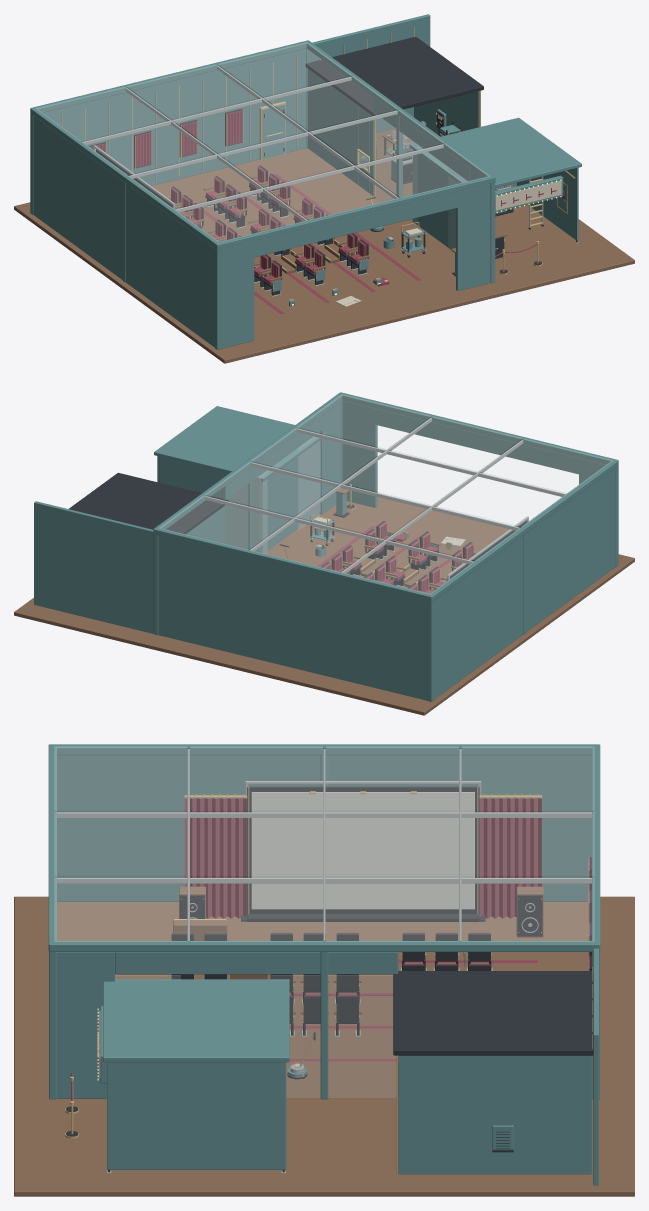
File: abandoned-cinema-and-projection-booth-ab-a5922e83-starter-scene__29736.glb
3 renders of one model, top to bottom at view 1: azimuth 30°, elevation 25°; view 2: azimuth 150°, elevation 25°; view 3: azimuth 270°, elevation 25°, orthographic. The views are drawn at different scales.
Visible parts, largest first — view 1: 000-abandoned-cinema-and-projection-booth-cinema-building/0, 000-abandoned-cinema-and-projection-booth-cinema-building/2, 000-abandoned-cinema-and-projection-booth-cinema-building/3, 001-abandoned-cinema-and-projection-booth-foyer-canopy/3, 000-abandoned-cinema-and-projection-booth-cinema-building/4, 000-abandoned-cinema-and-projection-booth-cinema-building/1, 000-abandoned-cinema-and-projection-booth-cinema-building/5, 000-abandoned-cinema-and-projection-booth-cinema-building/6, 057-abandoned-cinema-and-projection-booth-exit-door/1, 063-abandoned-cinema-and-projection-booth-marquee-sign/1, 063-abandoned-cinema-and-projection-booth-marquee-sign/0, 041-abandoned-cinema-and-projection-booth-wall-acoustic-pane (+1 smaller); view 2: 000-abandoned-cinema-and-projection-booth-cinema-building/0, 000-abandoned-cinema-and-projection-booth-cinema-building/2, 000-abandoned-cinema-and-projection-booth-cinema-building/3, 001-abandoned-cinema-and-projection-booth-foyer-canopy/3, 000-abandoned-cinema-and-projection-booth-cinema-building/1, 000-abandoned-cinema-and-projection-booth-cinema-building/4; view 3: 000-abandoned-cinema-and-projection-booth-cinema-building/2, 000-abandoned-cinema-and-projection-booth-cinema-building/0, 000-abandoned-cinema-and-projection-booth-cinema-building/3, 001-abandoned-cinema-and-projection-booth-foyer-canopy/3, 002-abandoned-cinema-and-projection-booth-projection-screen/ (×2), 000-abandoned-cinema-and-projection-booth-cinema-building/4, 000-abandoned-cinema-and-projection-booth-cinema-building/1, 004-abandoned-cinema-and-projection-booth-curtain-panel/0, 005-abandoned-cinema-and-projection-booth-curtain-panel/0, 000-abandoned-cinema-and-projection-booth-cinema-building/6, 038-abandoned-cinema-and-projection-booth-speaker-cabinet/1, 003-abandoned-cinema-and-projection-booth-screen-frame/0 (+2 smaller).
Boxes of the visible parts, bbox=[...] form: 000-abandoned-cinema-and-projection-booth-cinema-building/0: bbox=[30, 14, 495, 349]; 000-abandoned-cinema-and-projection-booth-cinema-building/2: bbox=[36, 42, 489, 254]; 000-abandoned-cinema-and-projection-booth-cinema-building/3: bbox=[14, 128, 634, 363]; 001-abandoned-cinema-and-projection-booth-foyer-canopy/3: bbox=[409, 117, 581, 249]; 000-abandoned-cinema-and-projection-booth-cinema-building/4: bbox=[305, 36, 483, 115]; 000-abandoned-cinema-and-projection-booth-cinema-building/1: bbox=[83, 65, 443, 221]; 000-abandoned-cinema-and-projection-booth-cinema-building/5: bbox=[61, 27, 480, 196]; 000-abandoned-cinema-and-projection-booth-cinema-building/6: bbox=[192, 174, 420, 314]; 057-abandoned-cinema-and-projection-booth-exit-door/1: bbox=[262, 104, 285, 159]; 063-abandoned-cinema-and-projection-booth-marquee-sign/1: bbox=[495, 181, 561, 210]; 063-abandoned-cinema-and-projection-booth-marquee-sign/0: bbox=[495, 175, 563, 212]; 041-abandoned-cinema-and-projection-booth-wall-acoustic-pane: bbox=[135, 132, 151, 167]; 000-abandoned-cinema-and-projection-booth-cinema-building/0: bbox=[34, 392, 618, 701]; 000-abandoned-cinema-and-projection-booth-cinema-building/2: bbox=[159, 394, 612, 594]; 000-abandoned-cinema-and-projection-booth-cinema-building/3: bbox=[14, 497, 634, 715]; 001-abandoned-cinema-and-projection-booth-foyer-canopy/3: bbox=[154, 406, 326, 553]; 000-abandoned-cinema-and-projection-booth-cinema-building/1: bbox=[205, 417, 565, 573]; 000-abandoned-cinema-and-projection-booth-cinema-building/4: bbox=[69, 472, 228, 534]; 000-abandoned-cinema-and-projection-booth-cinema-building/2: bbox=[54, 746, 594, 1097]; 000-abandoned-cinema-and-projection-booth-cinema-building/0: bbox=[48, 744, 600, 1185]; 000-abandoned-cinema-and-projection-booth-cinema-building/3: bbox=[14, 896, 634, 1196]; 001-abandoned-cinema-and-projection-booth-foyer-canopy/3: bbox=[103, 979, 289, 1169]; 002-abandoned-cinema-and-projection-booth-projection-screen/ (×2): bbox=[247, 786, 479, 921]; 000-abandoned-cinema-and-projection-booth-cinema-building/4: bbox=[393, 971, 593, 1055]; 000-abandoned-cinema-and-projection-booth-cinema-building/1: bbox=[57, 749, 591, 940]; 004-abandoned-cinema-and-projection-booth-curtain-panel/0: bbox=[479, 798, 541, 918]; 005-abandoned-cinema-and-projection-booth-curtain-panel/0: bbox=[184, 798, 246, 918]; 000-abandoned-cinema-and-projection-booth-cinema-building/6: bbox=[289, 960, 537, 1061]; 038-abandoned-cinema-and-projection-booth-speaker-cabinet/1: bbox=[517, 895, 542, 936]; 003-abandoned-cinema-and-projection-booth-screen-frame/0: bbox=[245, 781, 481, 798].
Bounding box in the file's own units: 18 × 4.59 × 16.
